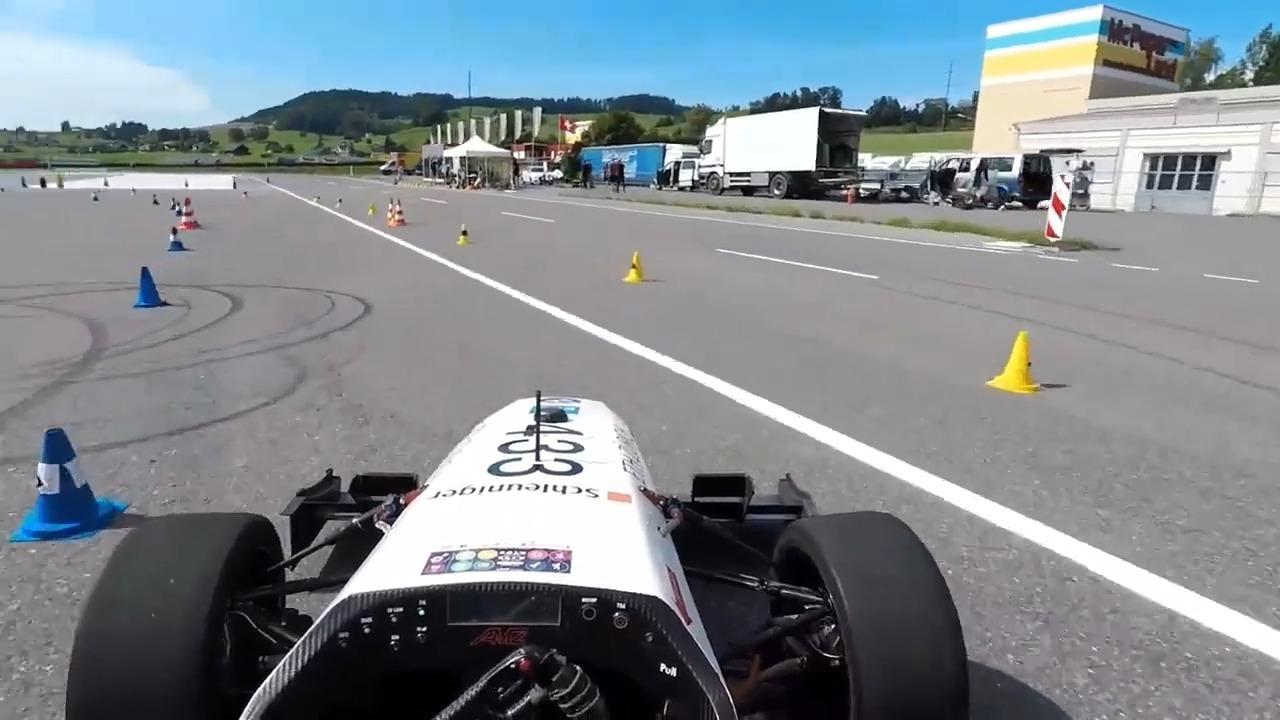blue_cone: (23, 415, 96, 545), (131, 263, 164, 309), (166, 229, 184, 255), (175, 200, 184, 219)
large_orange_cone: (181, 198, 195, 227), (392, 199, 406, 227), (188, 197, 201, 225), (386, 198, 395, 223)
yellow_cone: (986, 323, 1040, 397), (621, 251, 644, 284), (454, 222, 470, 245), (368, 203, 376, 217)
